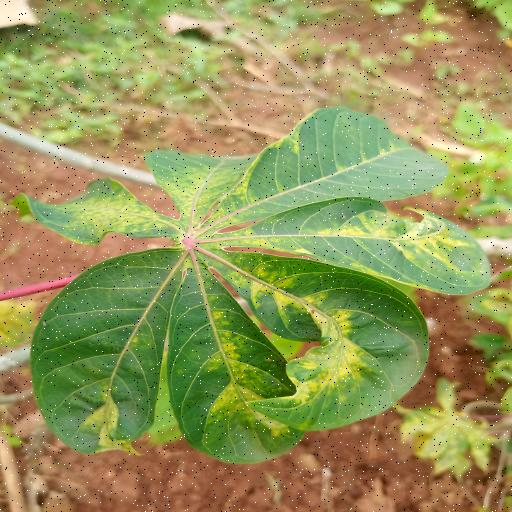Cassava_Mosaic: (10, 100, 502, 468)
